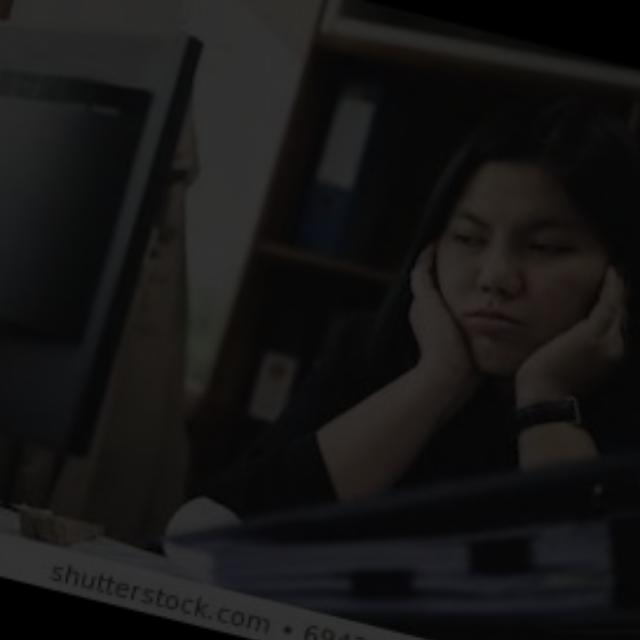Sad: (356, 149, 610, 381)
